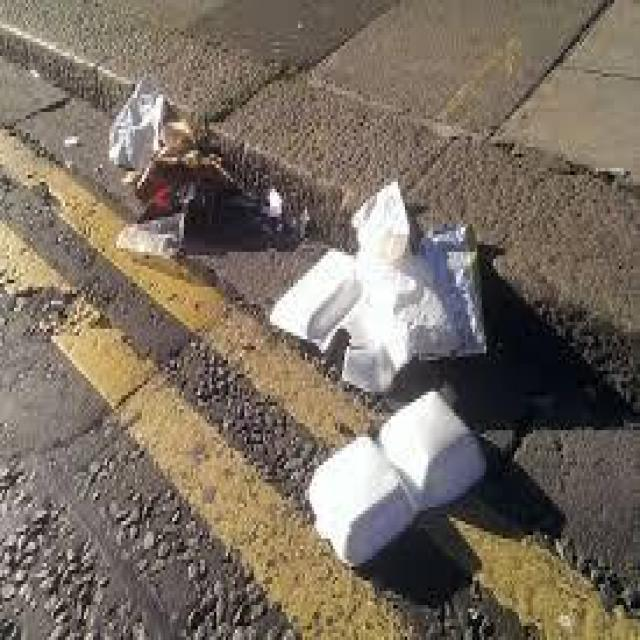curb: (1, 1, 640, 345)
